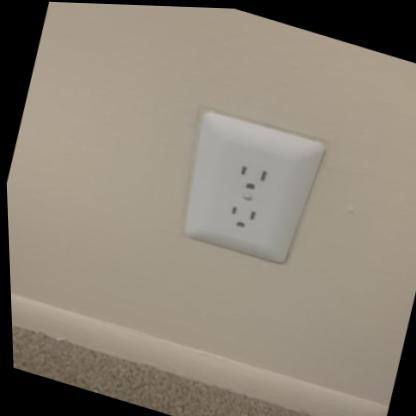OUTLET: (172, 106, 331, 270)
